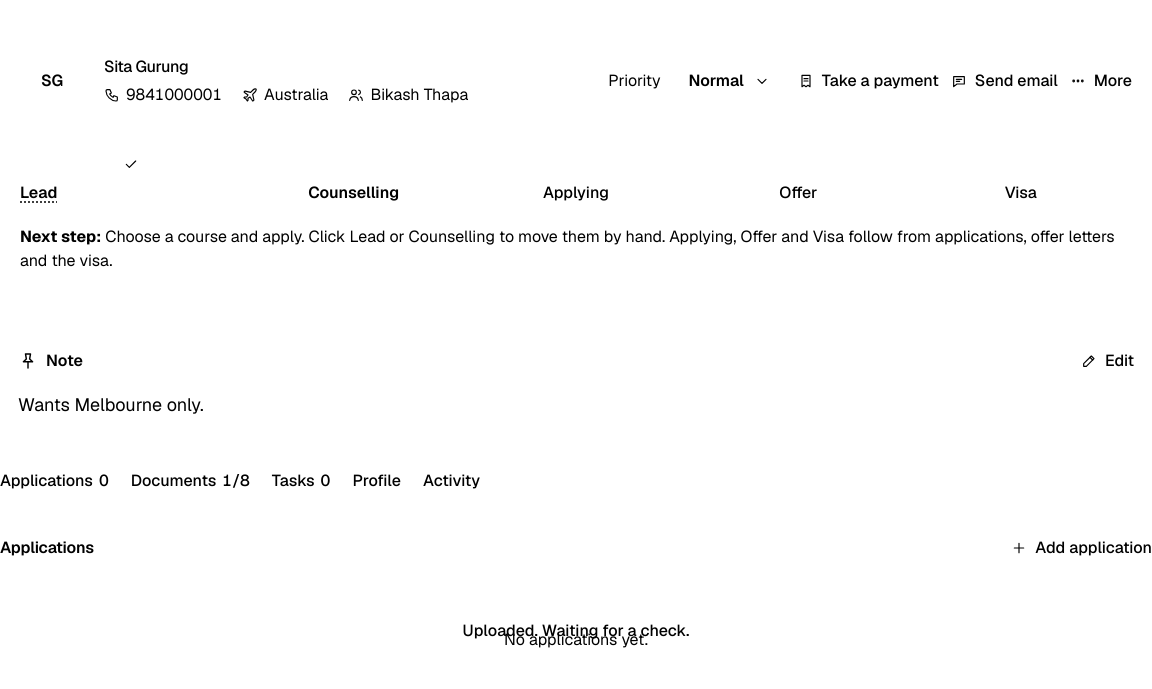
Test: emailing a Document Type's examples from the checklist (ticket 12) › opens the Plain email with the Document Type, its instruction and the example attached
This screenshot has width=1152, height=689.
Click the tab "Documents 1/8" at (190, 481), box left=131, top=459, right=250, bottom=503
(page scrolled)
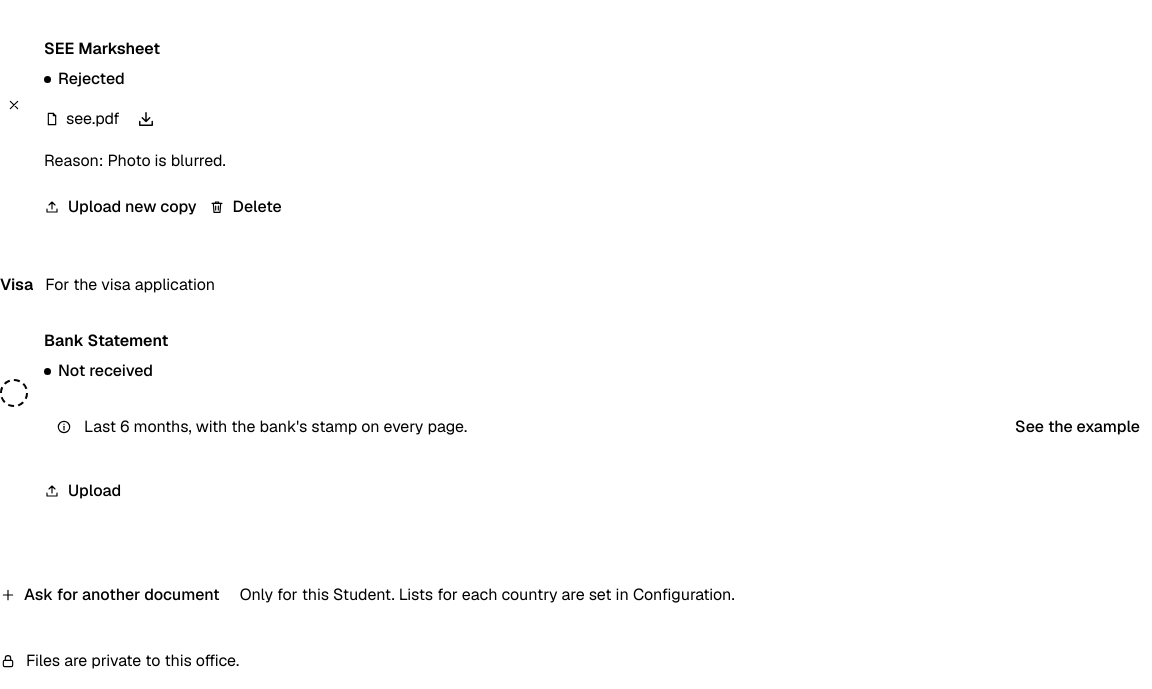
Click the button named "See the example of Bank Statement" at (1078, 427), box left=1015, top=405, right=1140, bottom=449
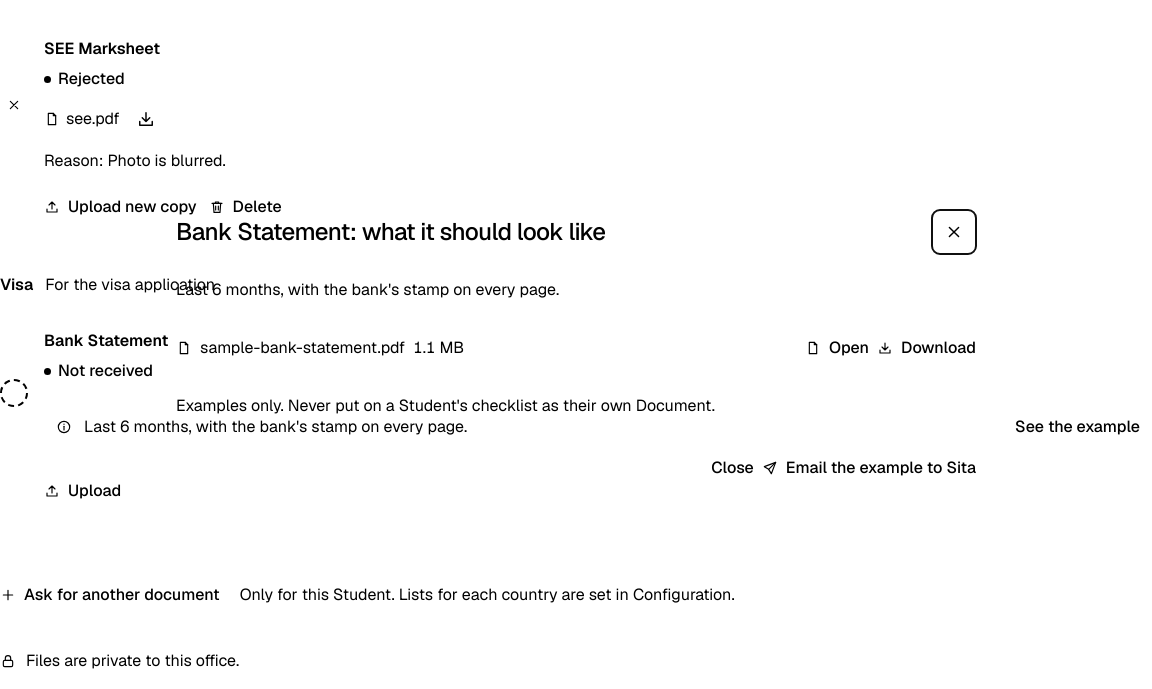
Click the button "Email the example to Sita" at (869, 468), box left=762, top=446, right=976, bottom=490
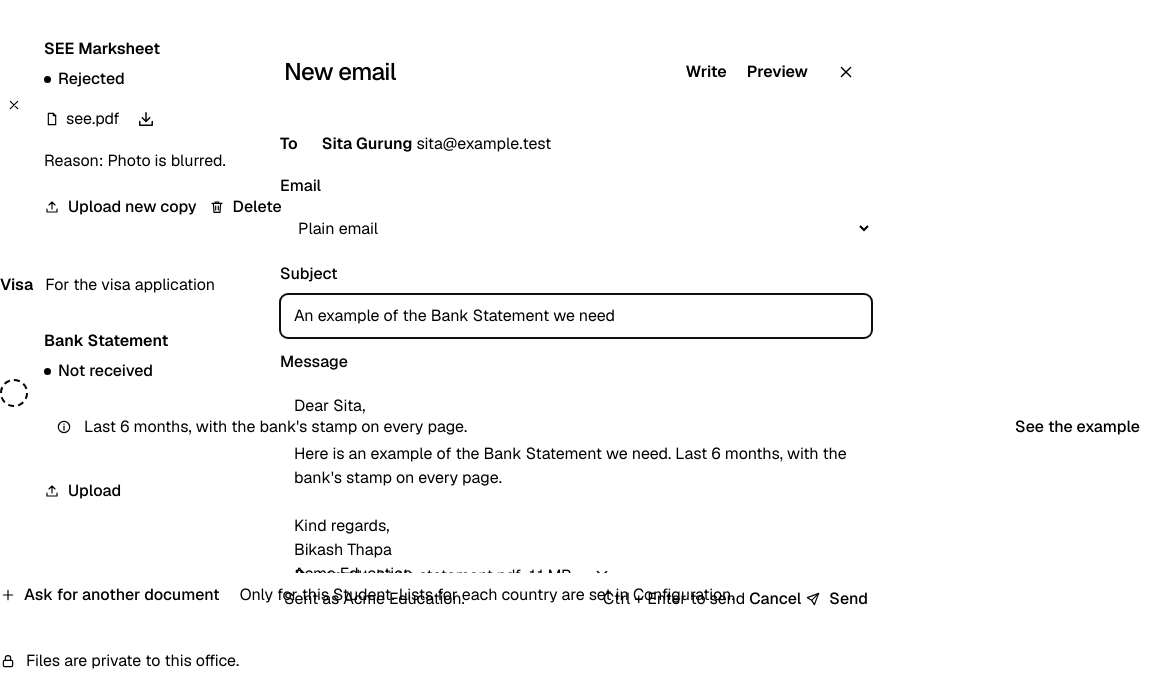
Expected: the field labelled "Subject" holds "An example of the Bank Statement we need", left=280, top=294, right=872, bottom=338
